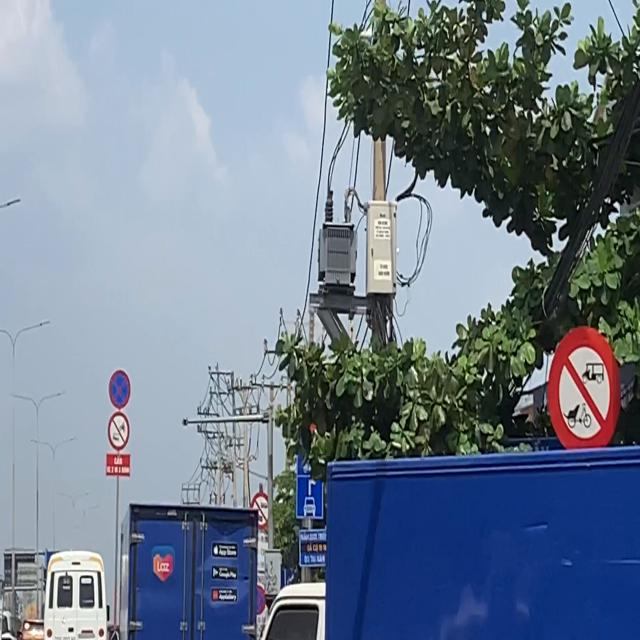Cam con lai: (548, 325, 621, 450), (108, 411, 130, 452), (251, 490, 270, 531)
Cam dung va do: (108, 370, 131, 410)
